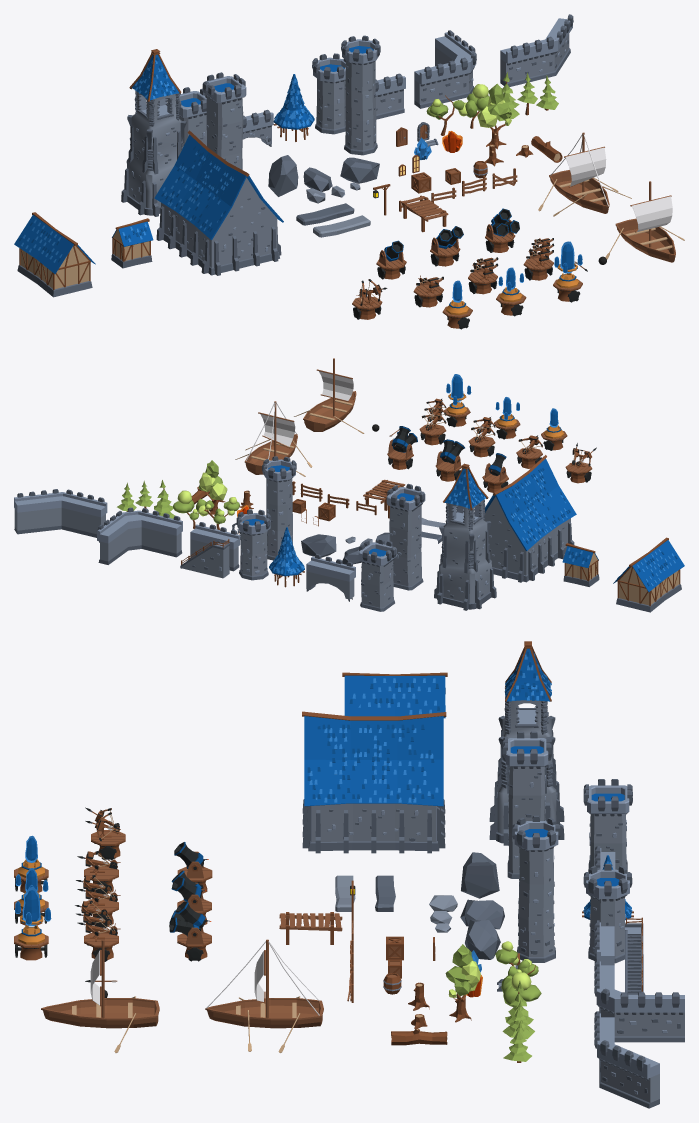
File: tower.glb
The picture shows the model from 3 angles, top to bottom: view 1: azimuth 30°, elevation 25°; view 2: azimuth 150°, elevation 25°; view 3: azimuth 270°, elevation 25°; orthographic projection. The views are drawn at different scales.
Visible parts, largest first — view 1: Building.001, Tower_Square_Tall.001, Building.002, Tower_Tall, Wall.003, Tower_Square_Tall, Wall.004, Boat.002, Boat.001, Tower_Small, Building.003, ConeRoof (+22 smaller); view 2: Building.001, Tower_Square_Tall.001, Wall.004, Wall.003, Building.002, Tower_Square_Tall, Tower_Tall, Tower_Square_Small, Boat.001, Tower_Small, Boat.002, Wall.002 (+19 smaller); view 3: Building.001, Tower_Square_Tall.001, Tower_Tall, Wall.003, Building.002, Boat.002, Tower_Square_Tall, Boat.001, Wall.004, Tower_Square_Small, Tower_Small, Rifle.003 (+19 smaller).
Part boxes in pixels (<box>): Building.001: <box>154,130,283,275</box>; Tower_Square_Tall.001: <box>121,49,186,216</box>; Building.002: <box>14,212,95,297</box>; Tower_Tall: <box>341,35,380,155</box>; Wall.003: <box>414,30,476,108</box>; Tower_Square_Tall: <box>202,72,246,169</box>; Wall.004: <box>500,14,573,86</box>; Boat.002: <box>538,132,631,216</box>; Boat.001: <box>605,181,684,262</box>; Tower_Small: <box>312,53,345,134</box>; Building.003: <box>111,218,153,268</box>; ConeRoof: <box>273,74,314,141</box>; Building.001: <box>484,455,576,582</box>; Tower_Square_Tall.001: <box>434,463,496,610</box>; Wall.004: <box>14,489,107,537</box>; Wall.003: <box>97,507,182,564</box>; Building.002: <box>613,537,684,612</box>; Tower_Square_Tall: <box>386,483,425,590</box>; Tower_Tall: <box>262,456,296,560</box>; Tower_Square_Small: <box>358,539,396,611</box>; Boat.001: <box>294,358,364,433</box>; Tower_Small: <box>236,509,271,580</box>; Boat.002: <box>235,401,312,476</box>; Wall.002: <box>306,554,355,601</box>; Building.001: <box>302,711,446,853</box>; Tower_Square_Tall.001: <box>489,641,564,845</box>; Tower_Tall: <box>512,815,560,962</box>; Wall.003: <box>594,959,684,1042</box>; Building.002: <box>342,672,447,718</box>; Boat.002: <box>205,939,323,1052</box>; Tower_Square_Tall: <box>502,731,551,878</box>; Boat.001: <box>41,939,159,1052</box>; Wall.004: <box>594,1011,659,1108</box>; Tower_Square_Small: <box>583,779,632,870</box>; Tower_Small: <box>583,864,632,963</box>; Rifle.003: <box>169,901,211,961</box>.
Bounding box in the file's own units: 51.04 × 12.17 × 37.53.
Materials: 2 (2 with a texture image).
